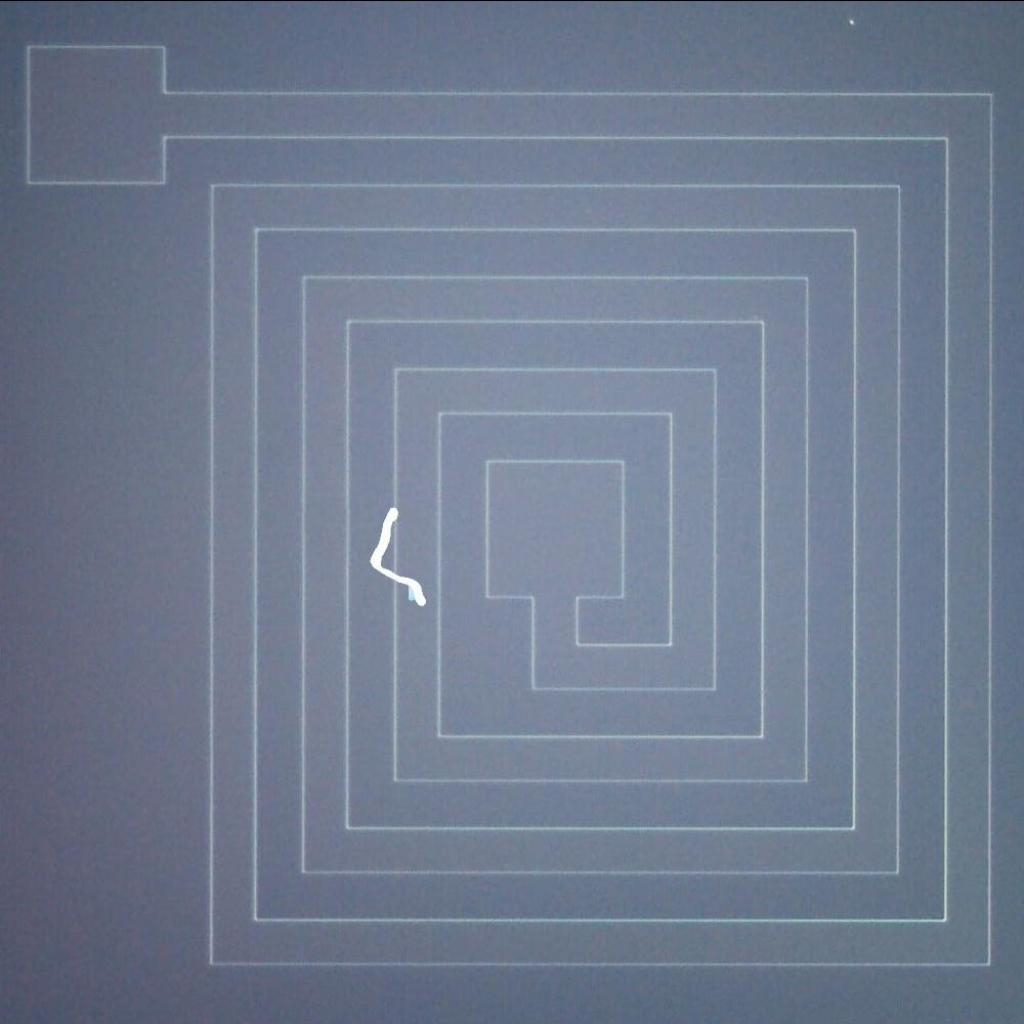dot: (838, 9, 866, 39)
line: (362, 502, 434, 612)
